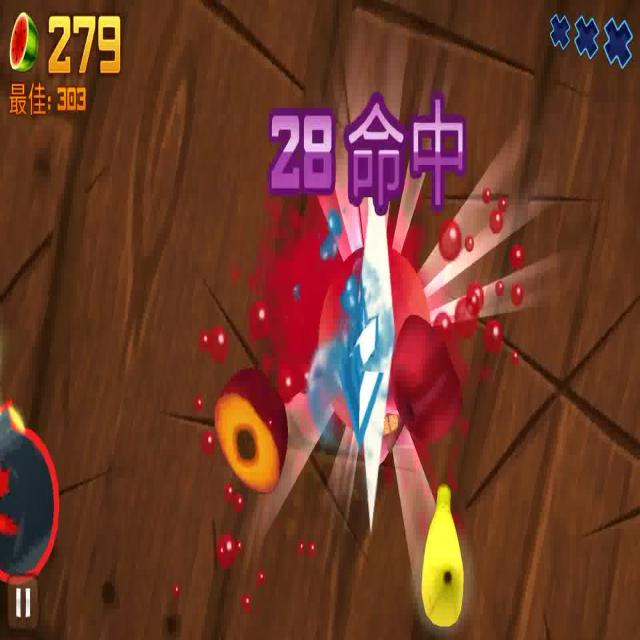bomb: (0, 385, 59, 582)
fruit: (316, 247, 428, 426), (215, 363, 288, 493), (391, 305, 462, 436), (419, 482, 466, 626)
